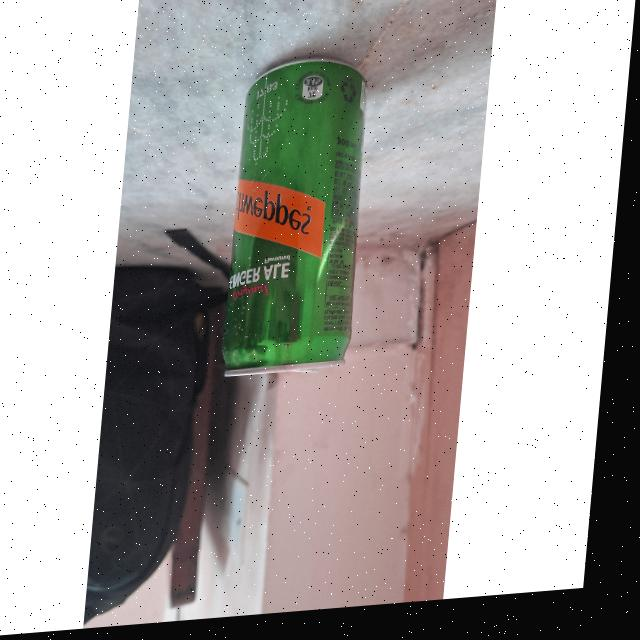Schweppes: (220, 58, 376, 390)
